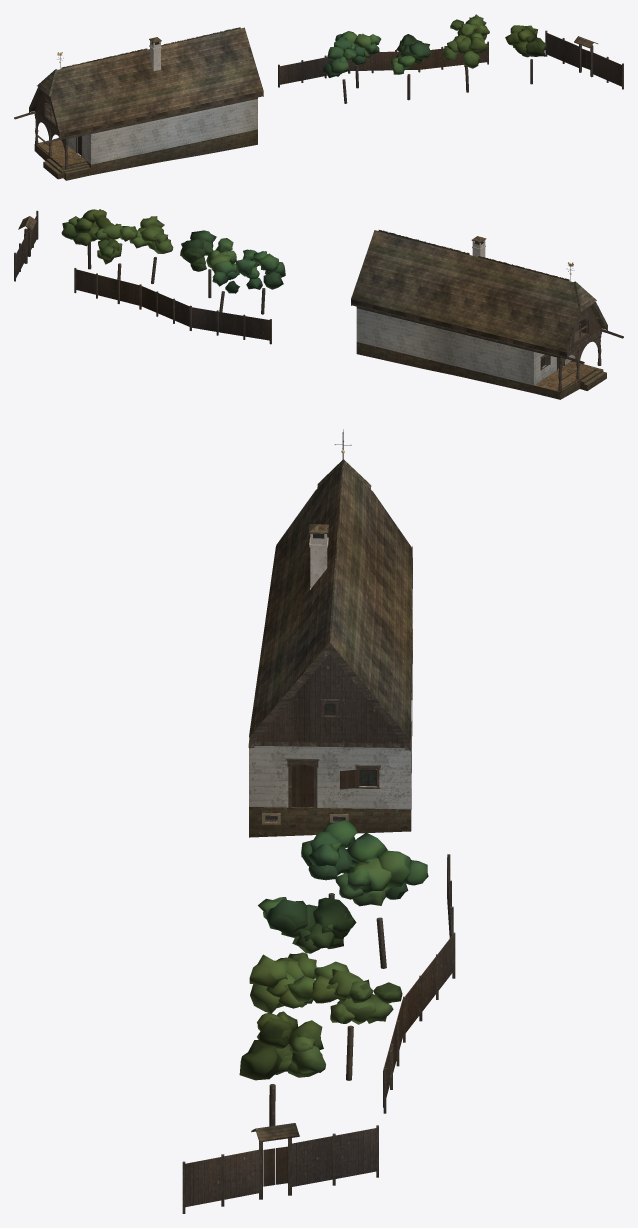
The model's file is dom16_lekki.glb.
3 renders of one model, top to bottom at view 1: azimuth 30°, elevation 25°; view 2: azimuth 150°, elevation 25°; view 3: azimuth 270°, elevation 25°, orthographic. The views are drawn at different scales.
Parts seen in each view (by area): view 1: Dom16_lekki; view 2: Dom16_lekki; view 3: Dom16_lekki.
Part boxes in pixels (x1=…): Dom16_lekki: x1=14, y1=14, x2=623, y2=180; Dom16_lekki: x1=14, y1=209, x2=623, y2=399; Dom16_lekki: x1=182, y1=429, x2=455, y2=1213.
Size of the model in its own units: 55.14 by 12.96 by 11.72.
15 materials, 11 textured.
